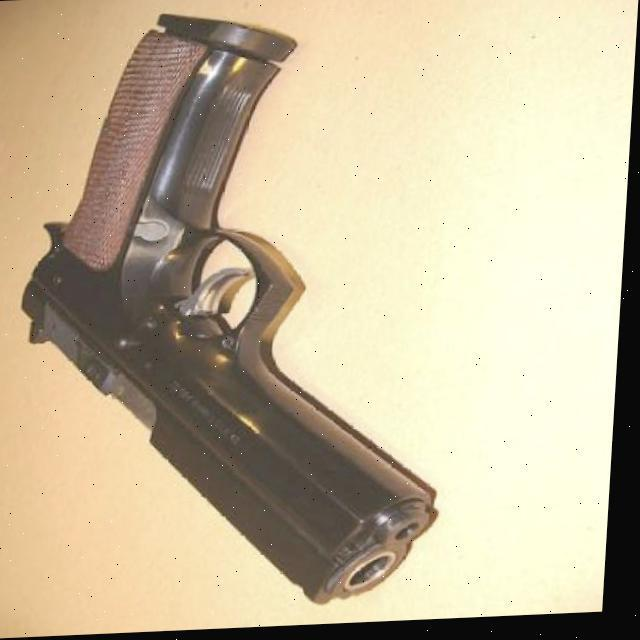gun: (0, 1, 474, 618)
